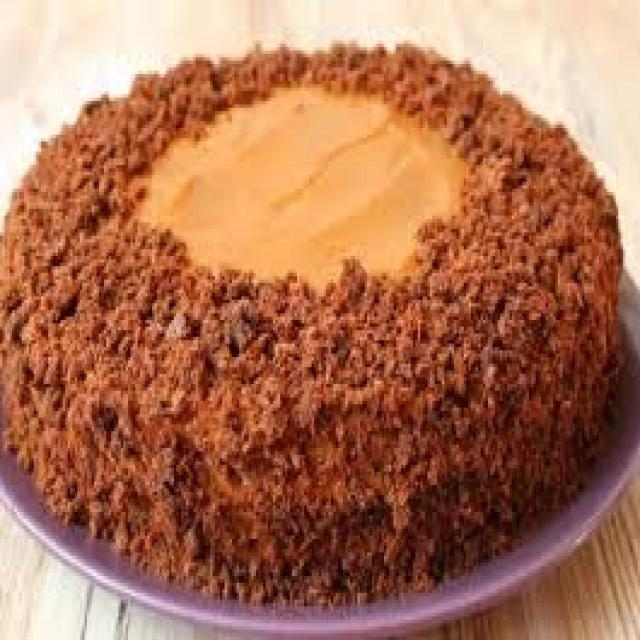Wet Waste: (16, 46, 618, 570)
